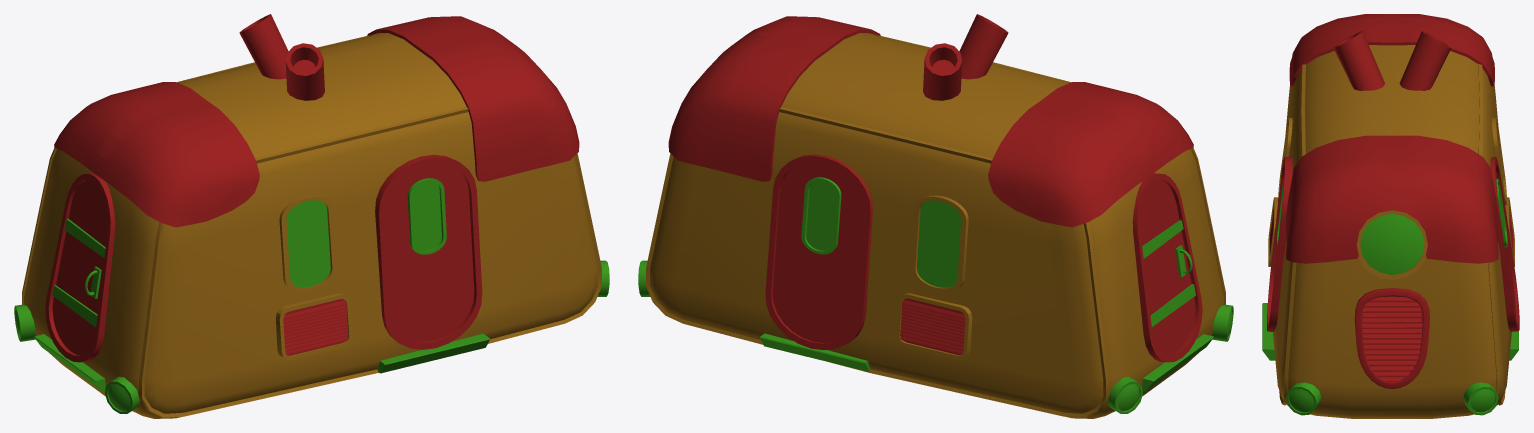
File: Bus_Metal_01.FBX
3 views of the same model, side by side, from view 1: azimuth 30°, elevation 25°; view 2: azimuth 150°, elevation 25°; view 3: azimuth 270°, elevation 25° (orthographic). The views are drawn at different scales.
Visible parts, largest first — view 1: Bus_Metal_01_LOD0; view 2: Bus_Metal_01_LOD0; view 3: Bus_Metal_01_LOD0.
Boxes of the visible parts, x1,y1,x2,y2 form: Bus_Metal_01_LOD0: (14,14,609,418); Bus_Metal_01_LOD0: (638,14,1233,418); Bus_Metal_01_LOD0: (1262,14,1519,418).
Bounding box in the file's own units: 787 × 479 × 392.
